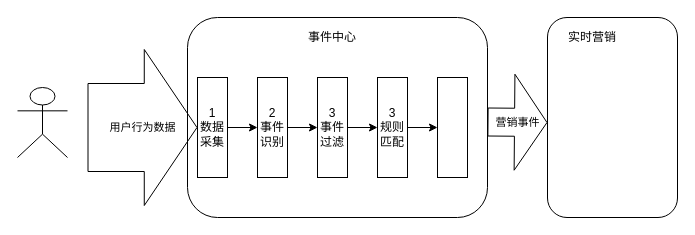
Some shapes in this 695 by 235 pixel diagram are drawn without their labels. Each missing label, with the centre of its shape:
3 事件分发: the point at 452,127
Actor: the point at 42,122
